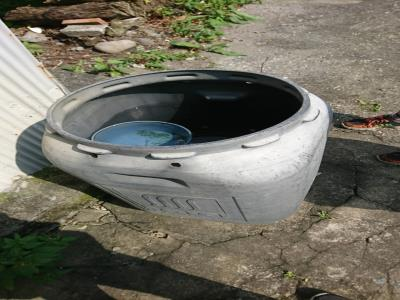bucket: (36, 64, 335, 232)
